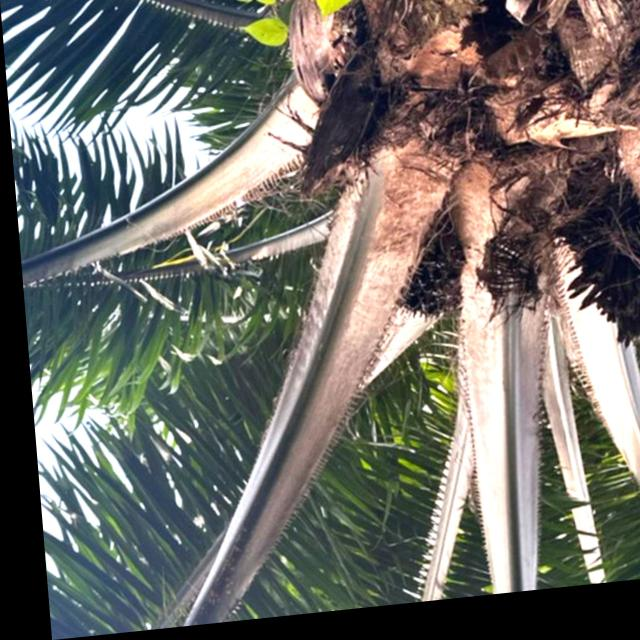unripe: (385, 221, 470, 335)
